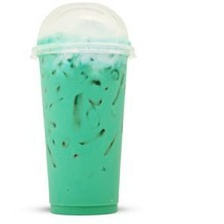glass: (28, 2, 140, 219)
